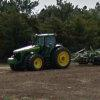Tractor: (8, 15, 74, 78)
